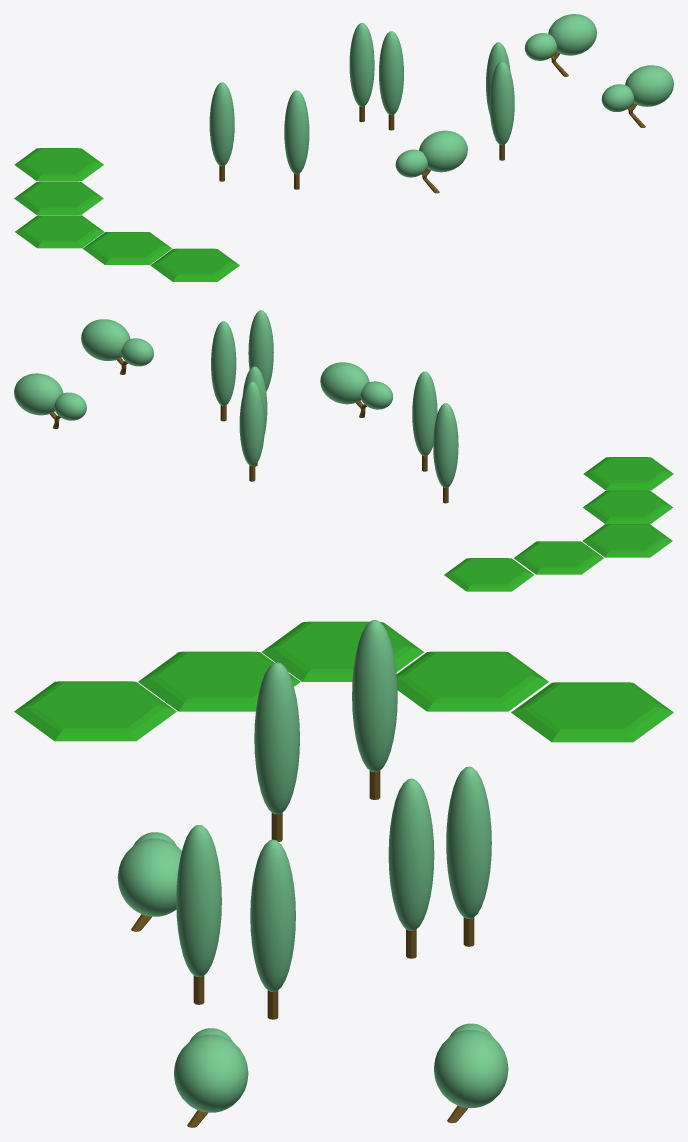
The model's file is scena.glb.
3 views of the same model, one above another, from view 1: azimuth 30°, elevation 25°; view 2: azimuth 150°, elevation 25°; view 3: azimuth 270°, elevation 25° (orthographic). The views are drawn at different scales.
Parts seen in each view (by area): view 1: Sphere (×6), Sphere.001 (×3), Circle.001, Circle.004, Circle, Circle.003, Circle.002, Sphere.002 (×3); view 2: Sphere (×6), Sphere.001 (×3), Circle, Circle.001, Circle.002, Circle.004, Circle.003, Sphere.002 (×3); view 3: Sphere (×6), Sphere.001 (×3), Circle.004, Circle.003, Circle, Circle.002, Circle.001.
Part boxes in pixels (x1,y1,x2,y2): Sphere (×6): (209, 23, 514, 174); Sphere.001 (×3): (419, 14, 673, 172); Circle.001: (15, 215, 104, 248); Circle.004: (14, 148, 103, 181); Circle: (14, 181, 103, 214); Circle.003: (150, 248, 239, 281); Circle.002: (82, 232, 171, 264); Sphere.002 (×3): (395, 33, 634, 177); Sphere (×6): (211, 310, 458, 487); Sphere.001 (×3): (14, 319, 369, 415); Circle: (514, 541, 603, 574); Circle.001: (582, 524, 672, 557); Circle.002: (583, 490, 672, 524); Circle.004: (444, 558, 533, 591); Circle.003: (583, 457, 673, 490); Sphere.002 (×3): (54, 338, 392, 420); Sphere (×6): (176, 620, 491, 991); Sphere.001 (×3): (117, 838, 508, 1112); Circle.004: (511, 682, 673, 742); Circle.003: (14, 681, 176, 741); Circle: (396, 651, 548, 711); Circle.002: (138, 651, 300, 711); Circle.001: (261, 621, 423, 681).
Bounding box in the file's own units: 15.65 × 2.48 × 8.1.
